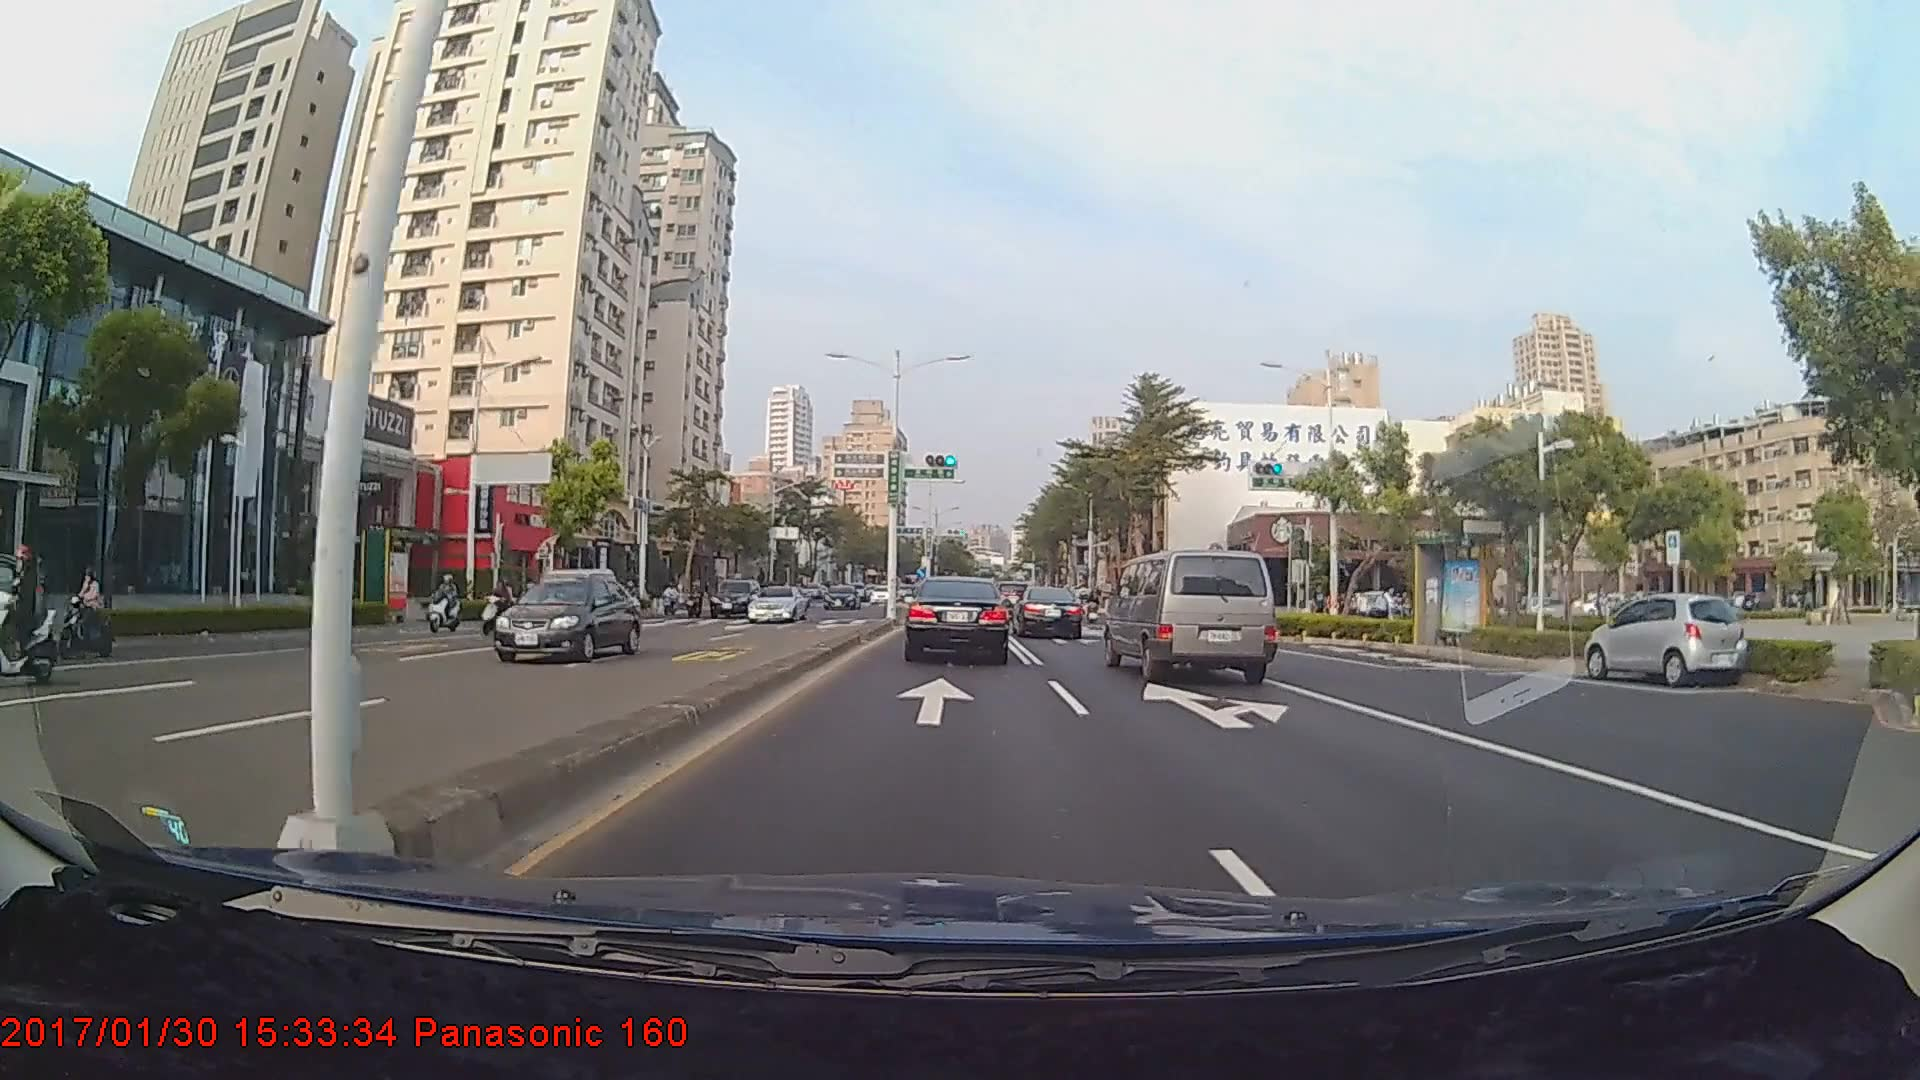rider: (2, 552, 65, 694), (53, 572, 121, 666), (426, 570, 468, 638), (479, 576, 518, 640)
vehicle: (1098, 546, 1276, 686), (1588, 591, 1743, 688), (493, 576, 647, 663), (905, 575, 1009, 663), (511, 568, 619, 629), (1010, 585, 1084, 640), (743, 583, 805, 623), (708, 577, 761, 618), (822, 582, 861, 611)
